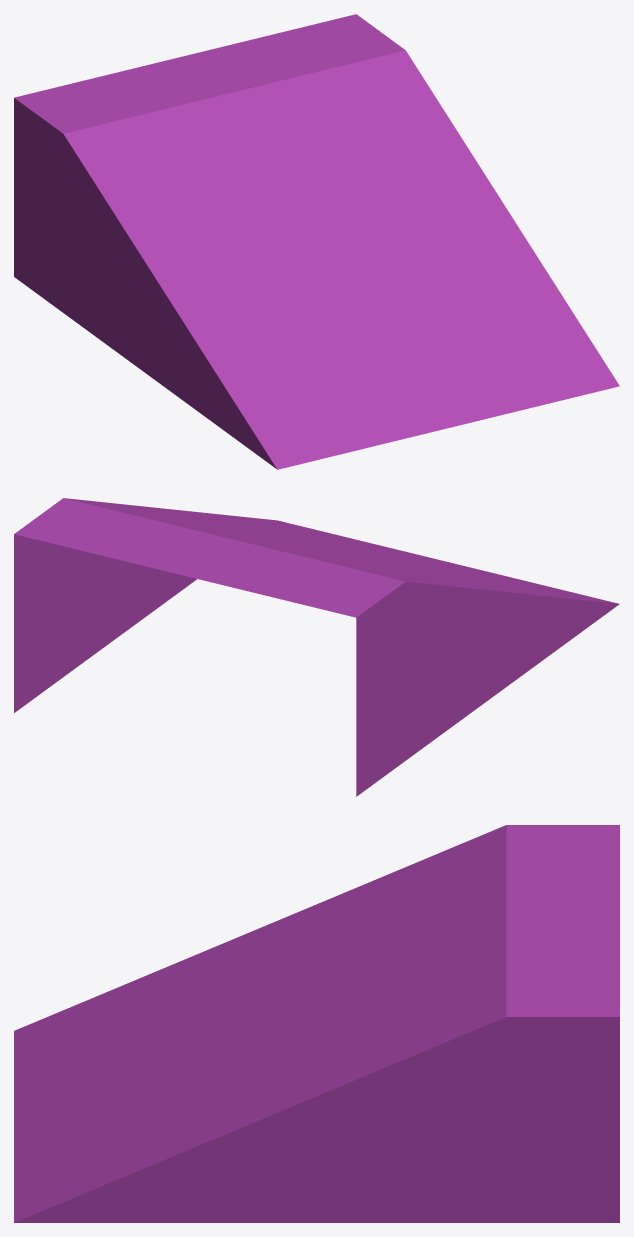
File: BigWin_Stairs_A.FBX
3 renders of one model, top to bottom at view 1: azimuth 30°, elevation 25°; view 2: azimuth 150°, elevation 25°; view 3: azimuth 270°, elevation 25°, orthographic. The views are drawn at different scales.
Visible parts, largest first — view 1: BigWin_Stairs_A; view 2: BigWin_Stairs_A; view 3: BigWin_Stairs_A.
Boxes of the visible parts, x1,y1,x2,y2 form: BigWin_Stairs_A: (14, 14, 619, 469); BigWin_Stairs_A: (14, 498, 619, 796); BigWin_Stairs_A: (14, 825, 619, 1222).
Size of the model in its own units: 300 by 150 by 400.
